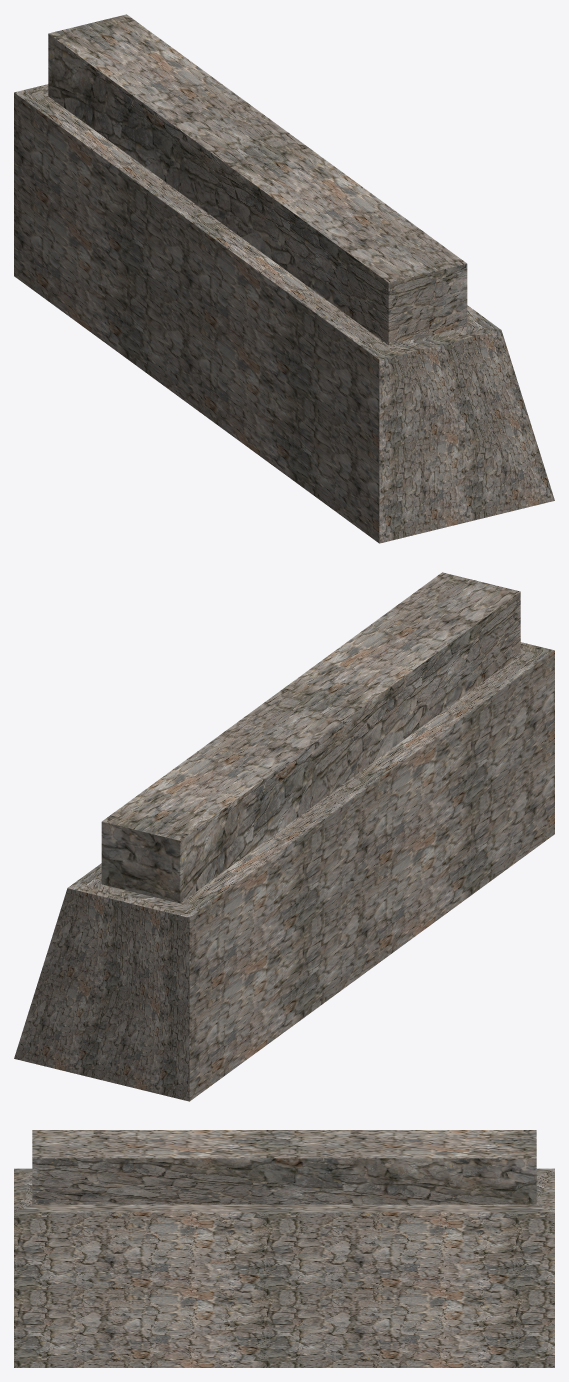
The model's file is shuiba0902.glb.
3 renders of one model, top to bottom at view 1: azimuth 30°, elevation 25°; view 2: azimuth 150°, elevation 25°; view 3: azimuth 270°, elevation 25°, orthographic. The views are drawn at different scales.
Parts seen in each view (by area): view 1: Cube; view 2: Cube; view 3: Cube.
Part boxes in pixels (<box>): Cube: <box>14,14,554,543</box>; Cube: <box>14,572,554,1101</box>; Cube: <box>14,1130,554,1367</box>.
Bounding box in the file's own units: 2 × 2.68 × 7.21.
Materials: 1 (1 with a texture image).
